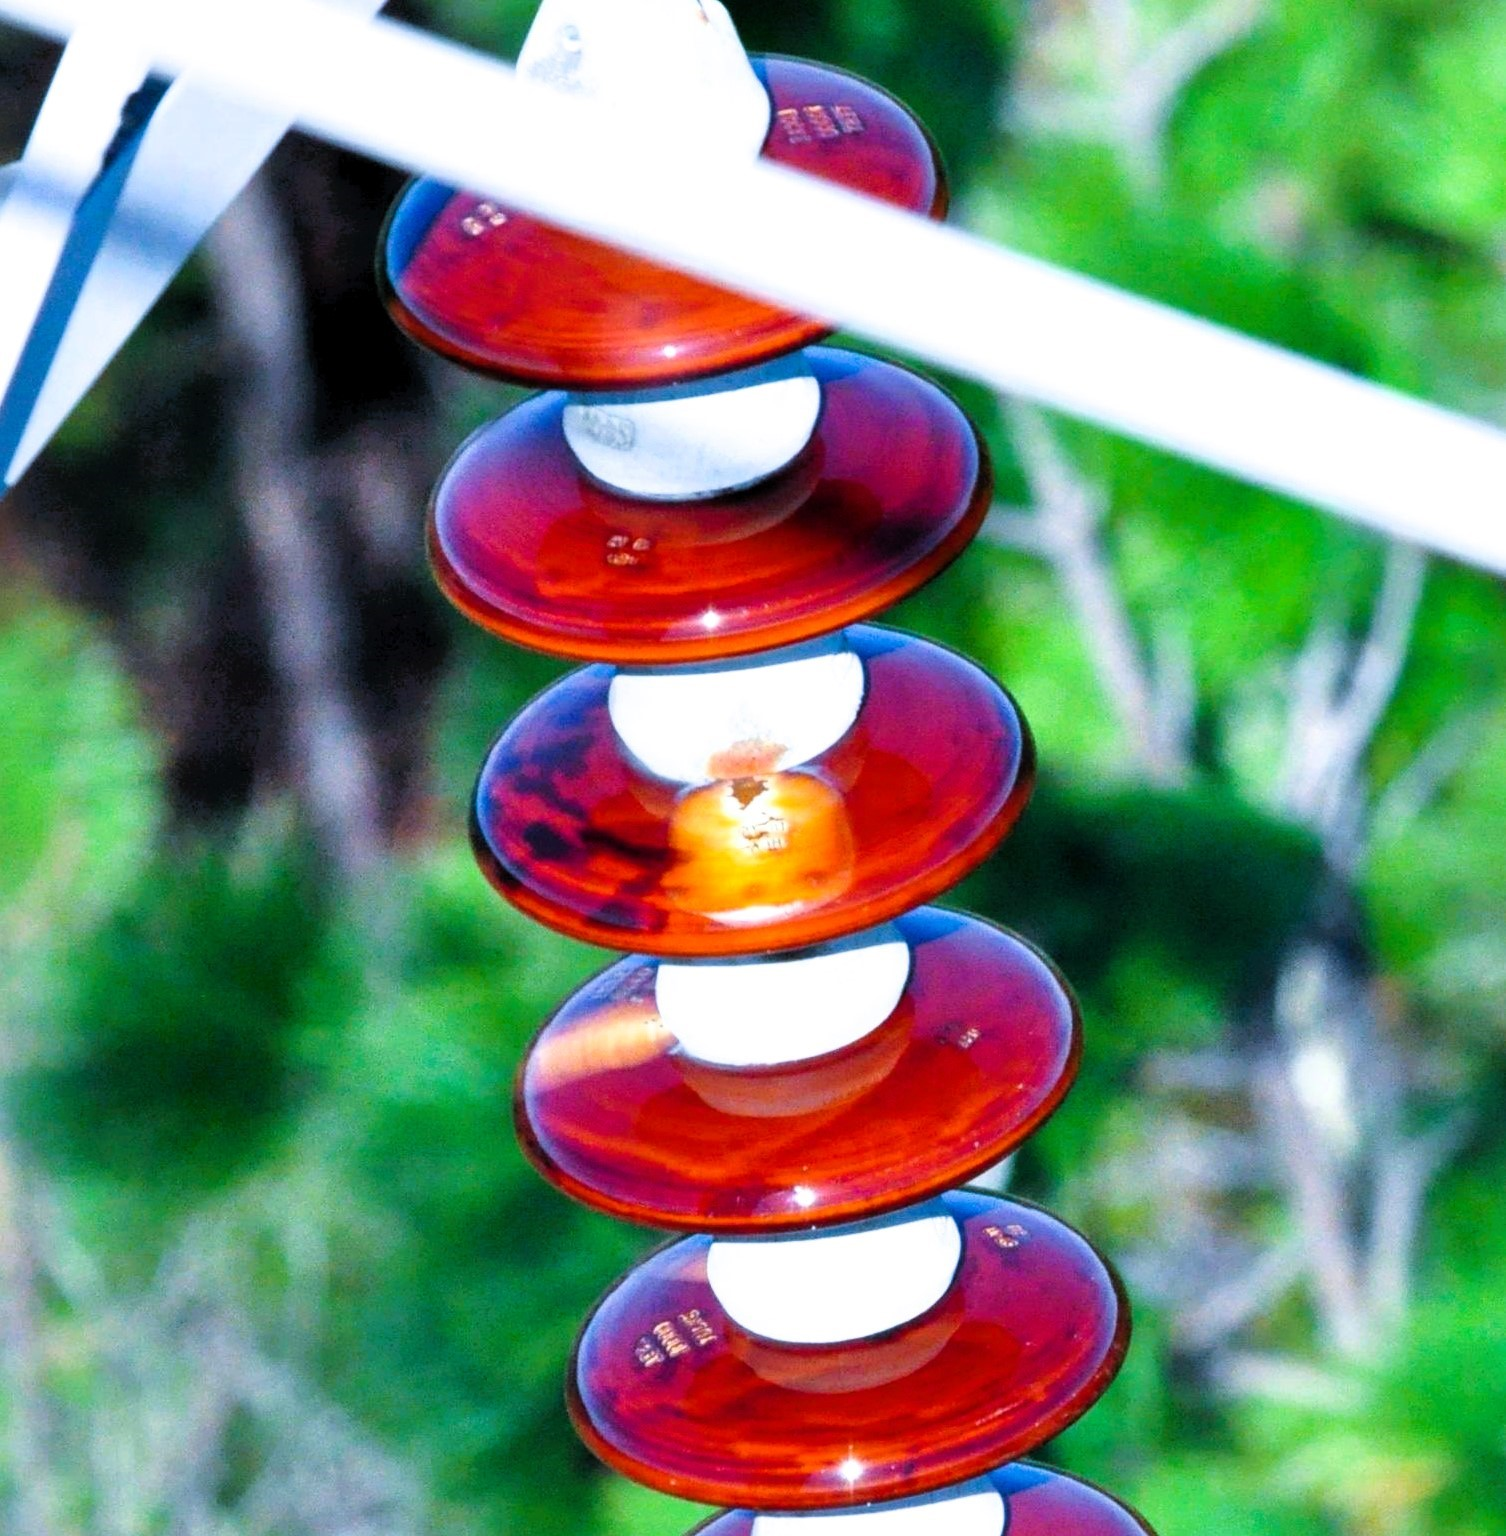Insulator flashover: (445, 622, 1038, 962)
